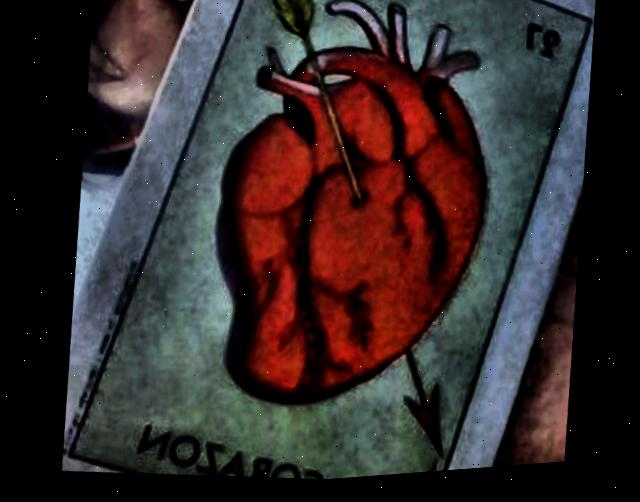El Corazon: (71, 0, 589, 484)
